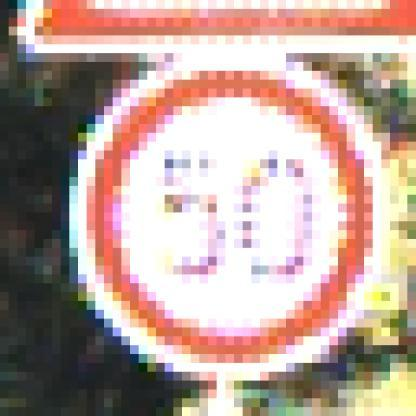Speed Limit -50-: (61, 44, 394, 365)
